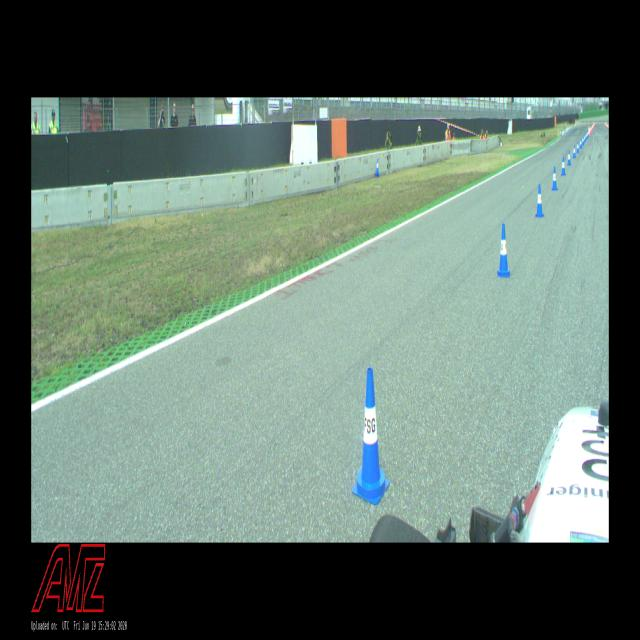blue_cone: (352, 367, 389, 505), (497, 222, 510, 277), (536, 184, 544, 217), (552, 167, 557, 191), (561, 157, 566, 175), (567, 150, 571, 165), (376, 160, 379, 175), (573, 145, 576, 158), (577, 142, 579, 152), (580, 139, 582, 149), (582, 136, 584, 146), (584, 134, 586, 143)
